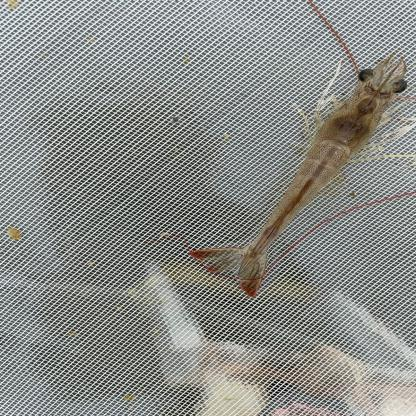shrimp: (191, 55, 409, 299)
